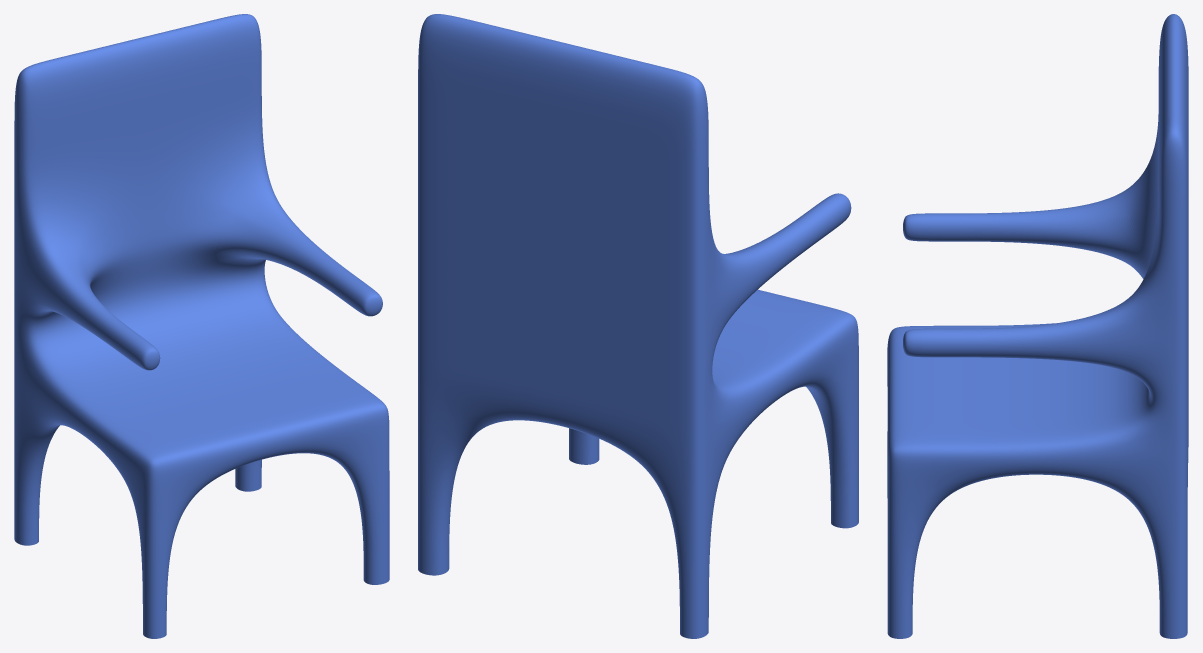
Rendered from chaise.fbx.
The picture shows the model from 3 angles, left to right: view 1: azimuth 30°, elevation 25°; view 2: azimuth 150°, elevation 25°; view 3: azimuth 270°, elevation 25°; orthographic projection. The views are drawn at different scales.
Parts seen in each view (by area): view 1: Cube; view 2: Cube; view 3: Cube.
Part boxes in pixels (<box>): Cube: <box>14,14,389,638</box>; Cube: <box>418,14,858,638</box>; Cube: <box>887,14,1188,638</box>.
Bounding box in the file's own units: 199 × 369 × 200.
